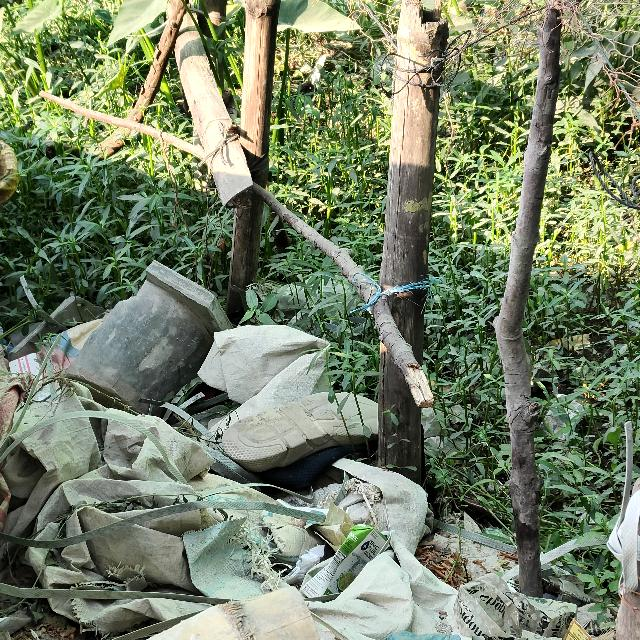sandal: (222, 374, 391, 488)
